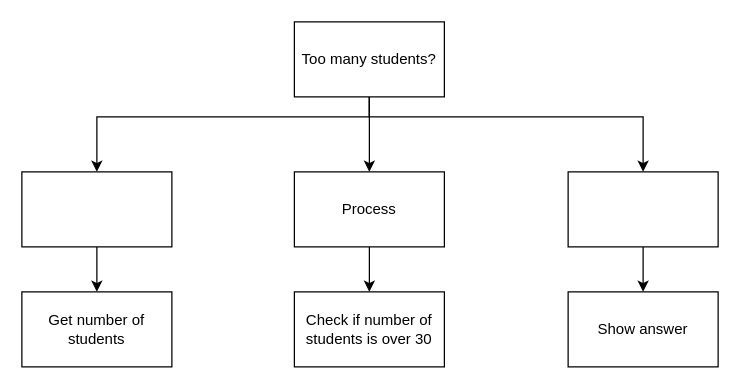
This 740x389 diagram has some shape labels left out. The centre of each missing label's shape, as x and y in pixels:
Input: point 96,209
Output: point 642,209
